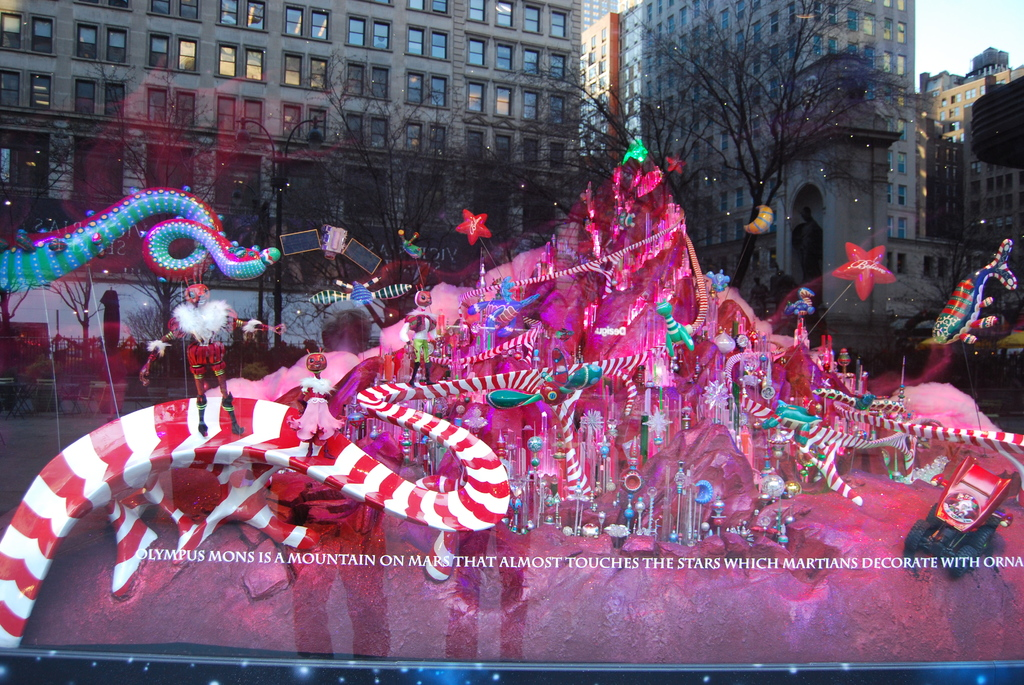Tree: (0, 0, 918, 404), (891, 220, 1002, 351)
